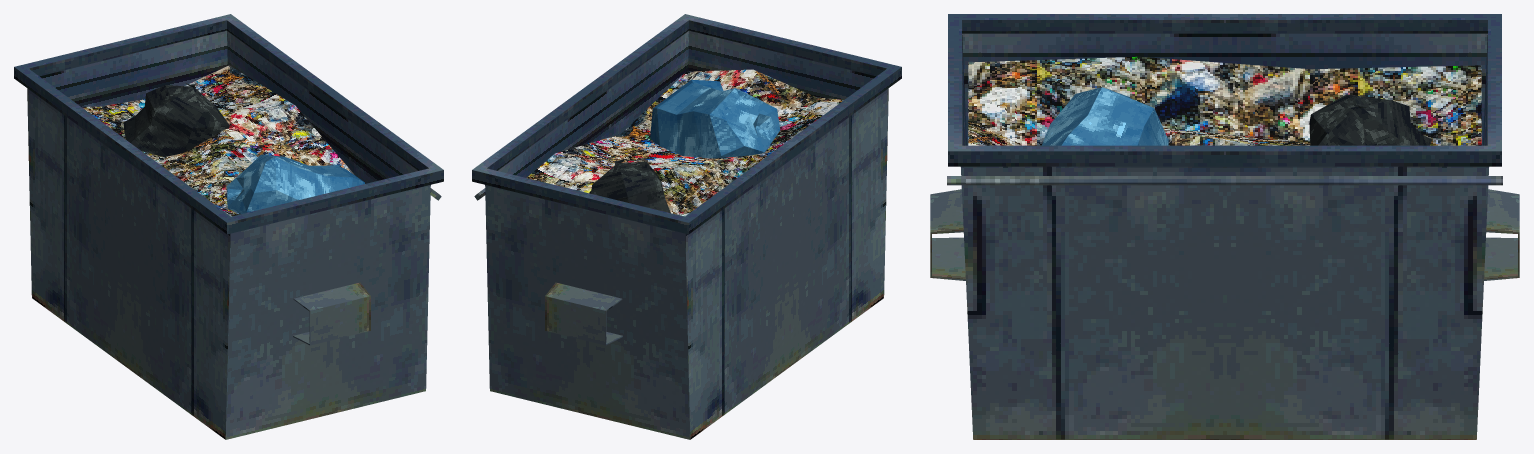
The model's file is dumpster_full_no_lid_blue.glb.
The picture shows the model from 3 angles, left to right: view 1: azimuth 30°, elevation 25°; view 2: azimuth 150°, elevation 25°; view 3: azimuth 270°, elevation 25°; orthographic projection. The views are drawn at different scales.
Parts seen in each view (by area): view 1: dumpster_full_no_lid_blue; view 2: dumpster_full_no_lid_blue; view 3: dumpster_full_no_lid_blue.
Boxes of the visible parts, x1,y1,x2,y2 form: dumpster_full_no_lid_blue: (14,14,443,439); dumpster_full_no_lid_blue: (472,14,901,439); dumpster_full_no_lid_blue: (930,14,1519,439).
Bounding box in the file's own units: 2.03 × 2.02 × 3.67.
Materials: 3 (3 with a texture image).
